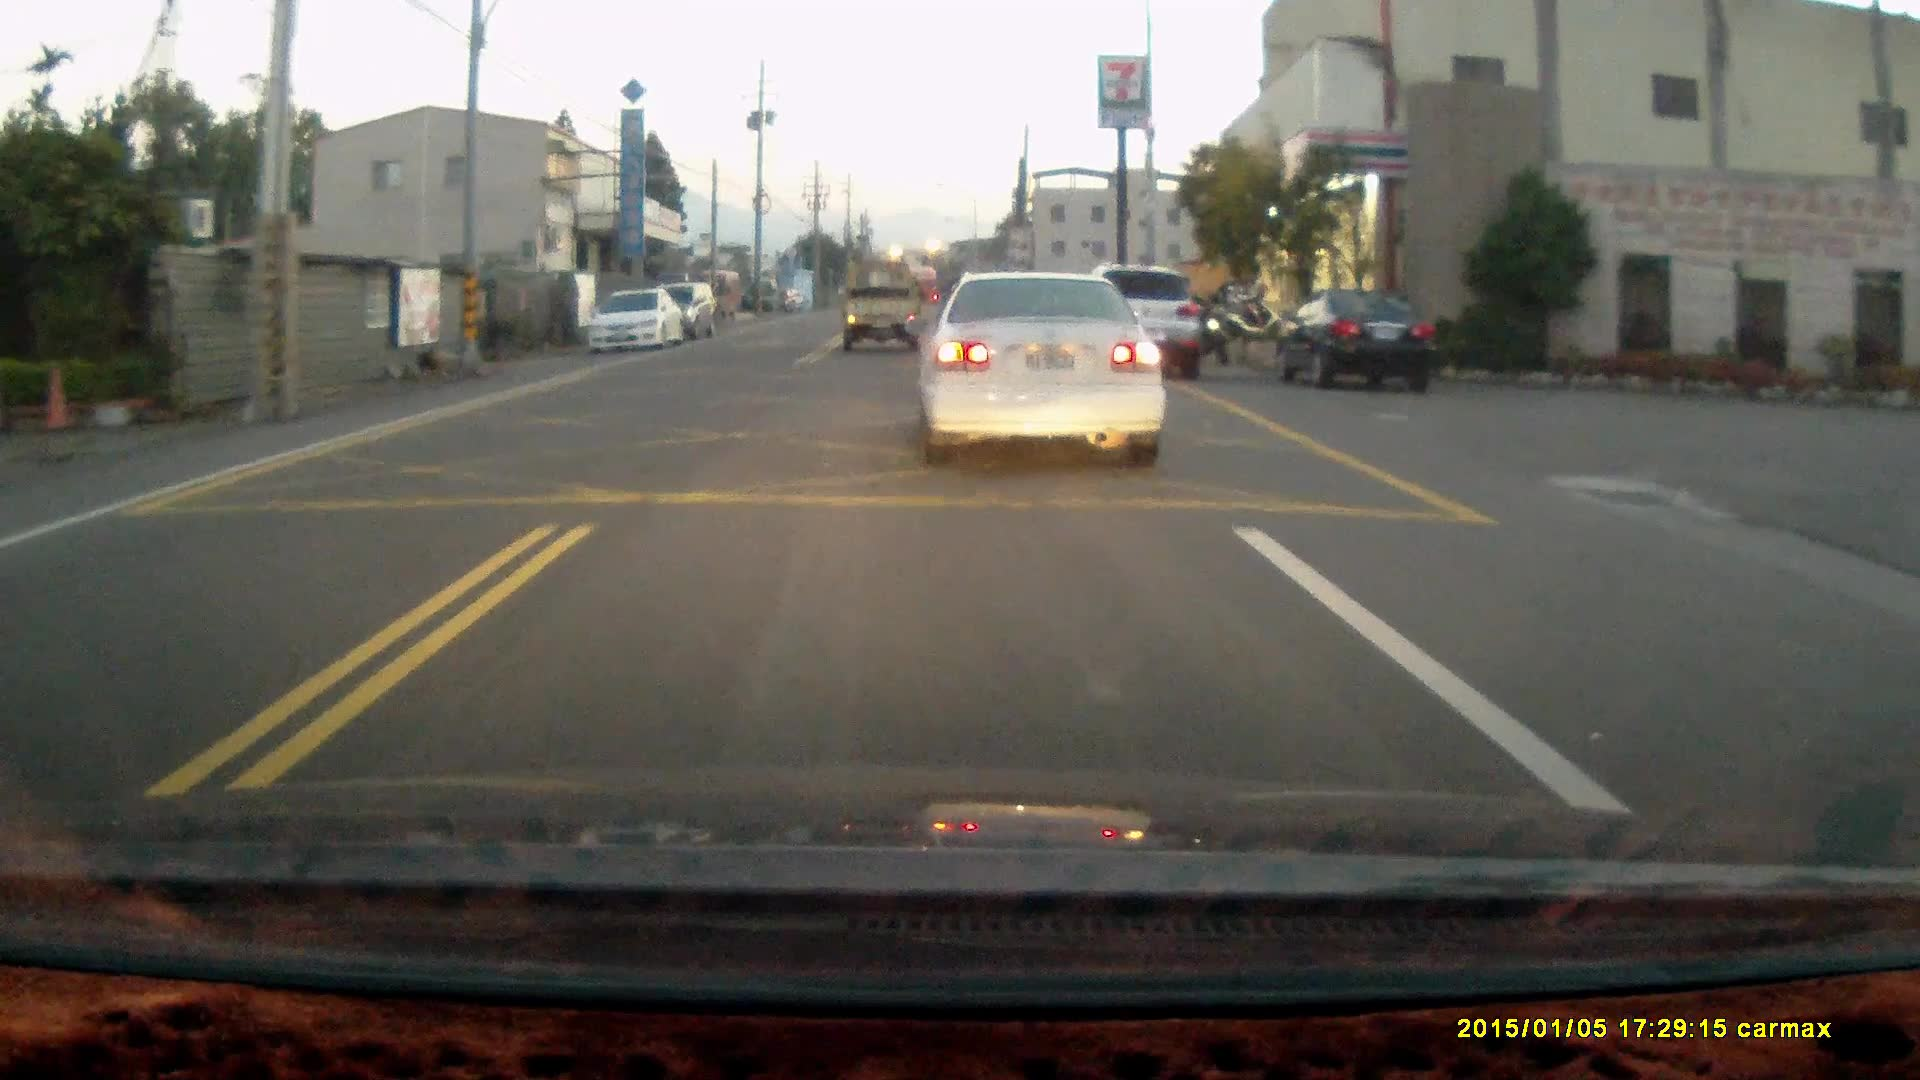vehicle: (918, 266, 1170, 473), (1273, 289, 1441, 396), (1077, 264, 1204, 378), (841, 264, 928, 356), (578, 287, 686, 357), (651, 281, 717, 345)
